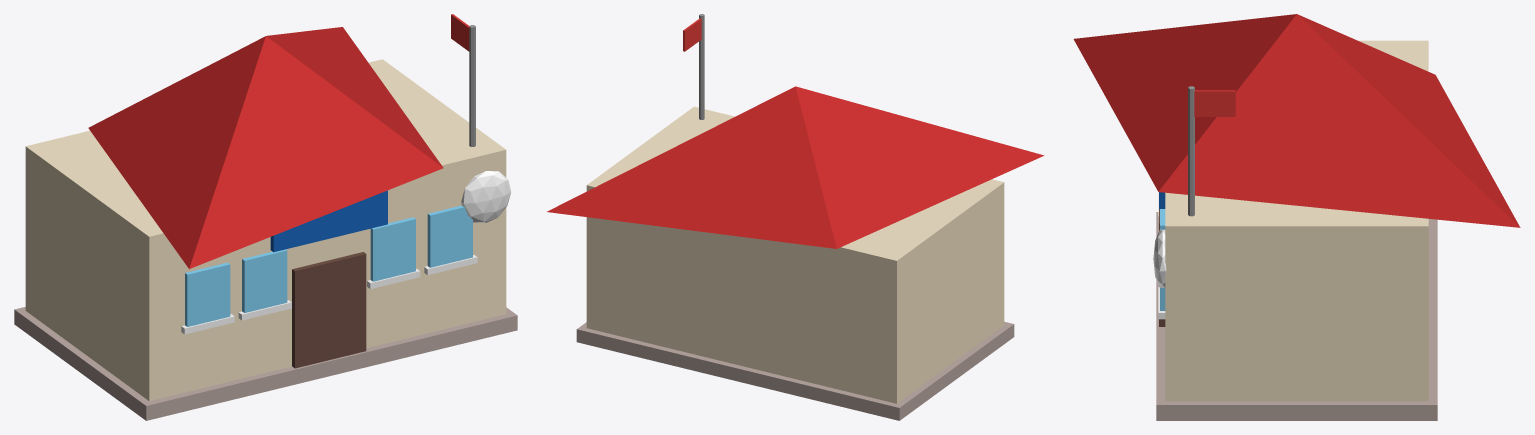
Rendered from school.glb.
3 renders of one model, left to right at view 1: azimuth 30°, elevation 25°; view 2: azimuth 150°, elevation 25°; view 3: azimuth 270°, elevation 25°, orthographic. The views are drawn at different scales.
Parts seen in each view (by area): view 1: school; view 2: school; view 3: school.
Boxes of the visible parts, x1=… form: school: x1=14, y1=14, x2=517, y2=420; school: x1=547, y1=14, x2=1044, y2=420; school: x1=1073, y1=14, x2=1520, y2=420.
Bounding box in the file's own units: 5.2 × 4 × 5.09.
